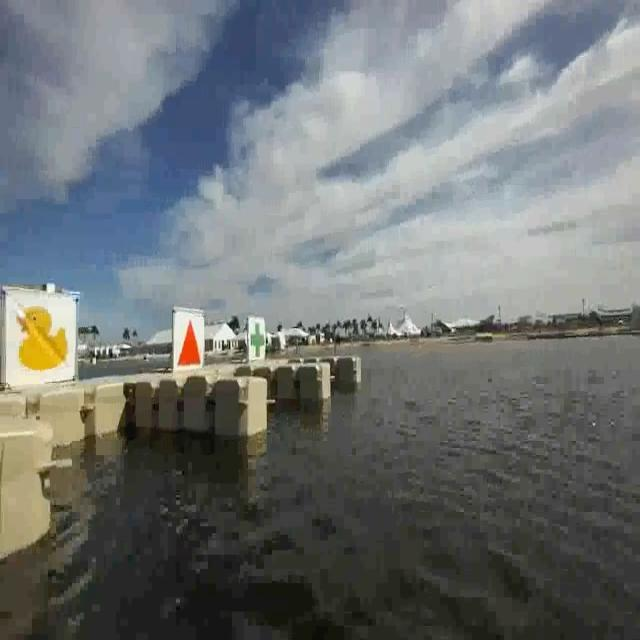blue-cross: (248, 314, 268, 358)
red-dot: (173, 308, 203, 373)
yellow-duck: (16, 303, 68, 372)
